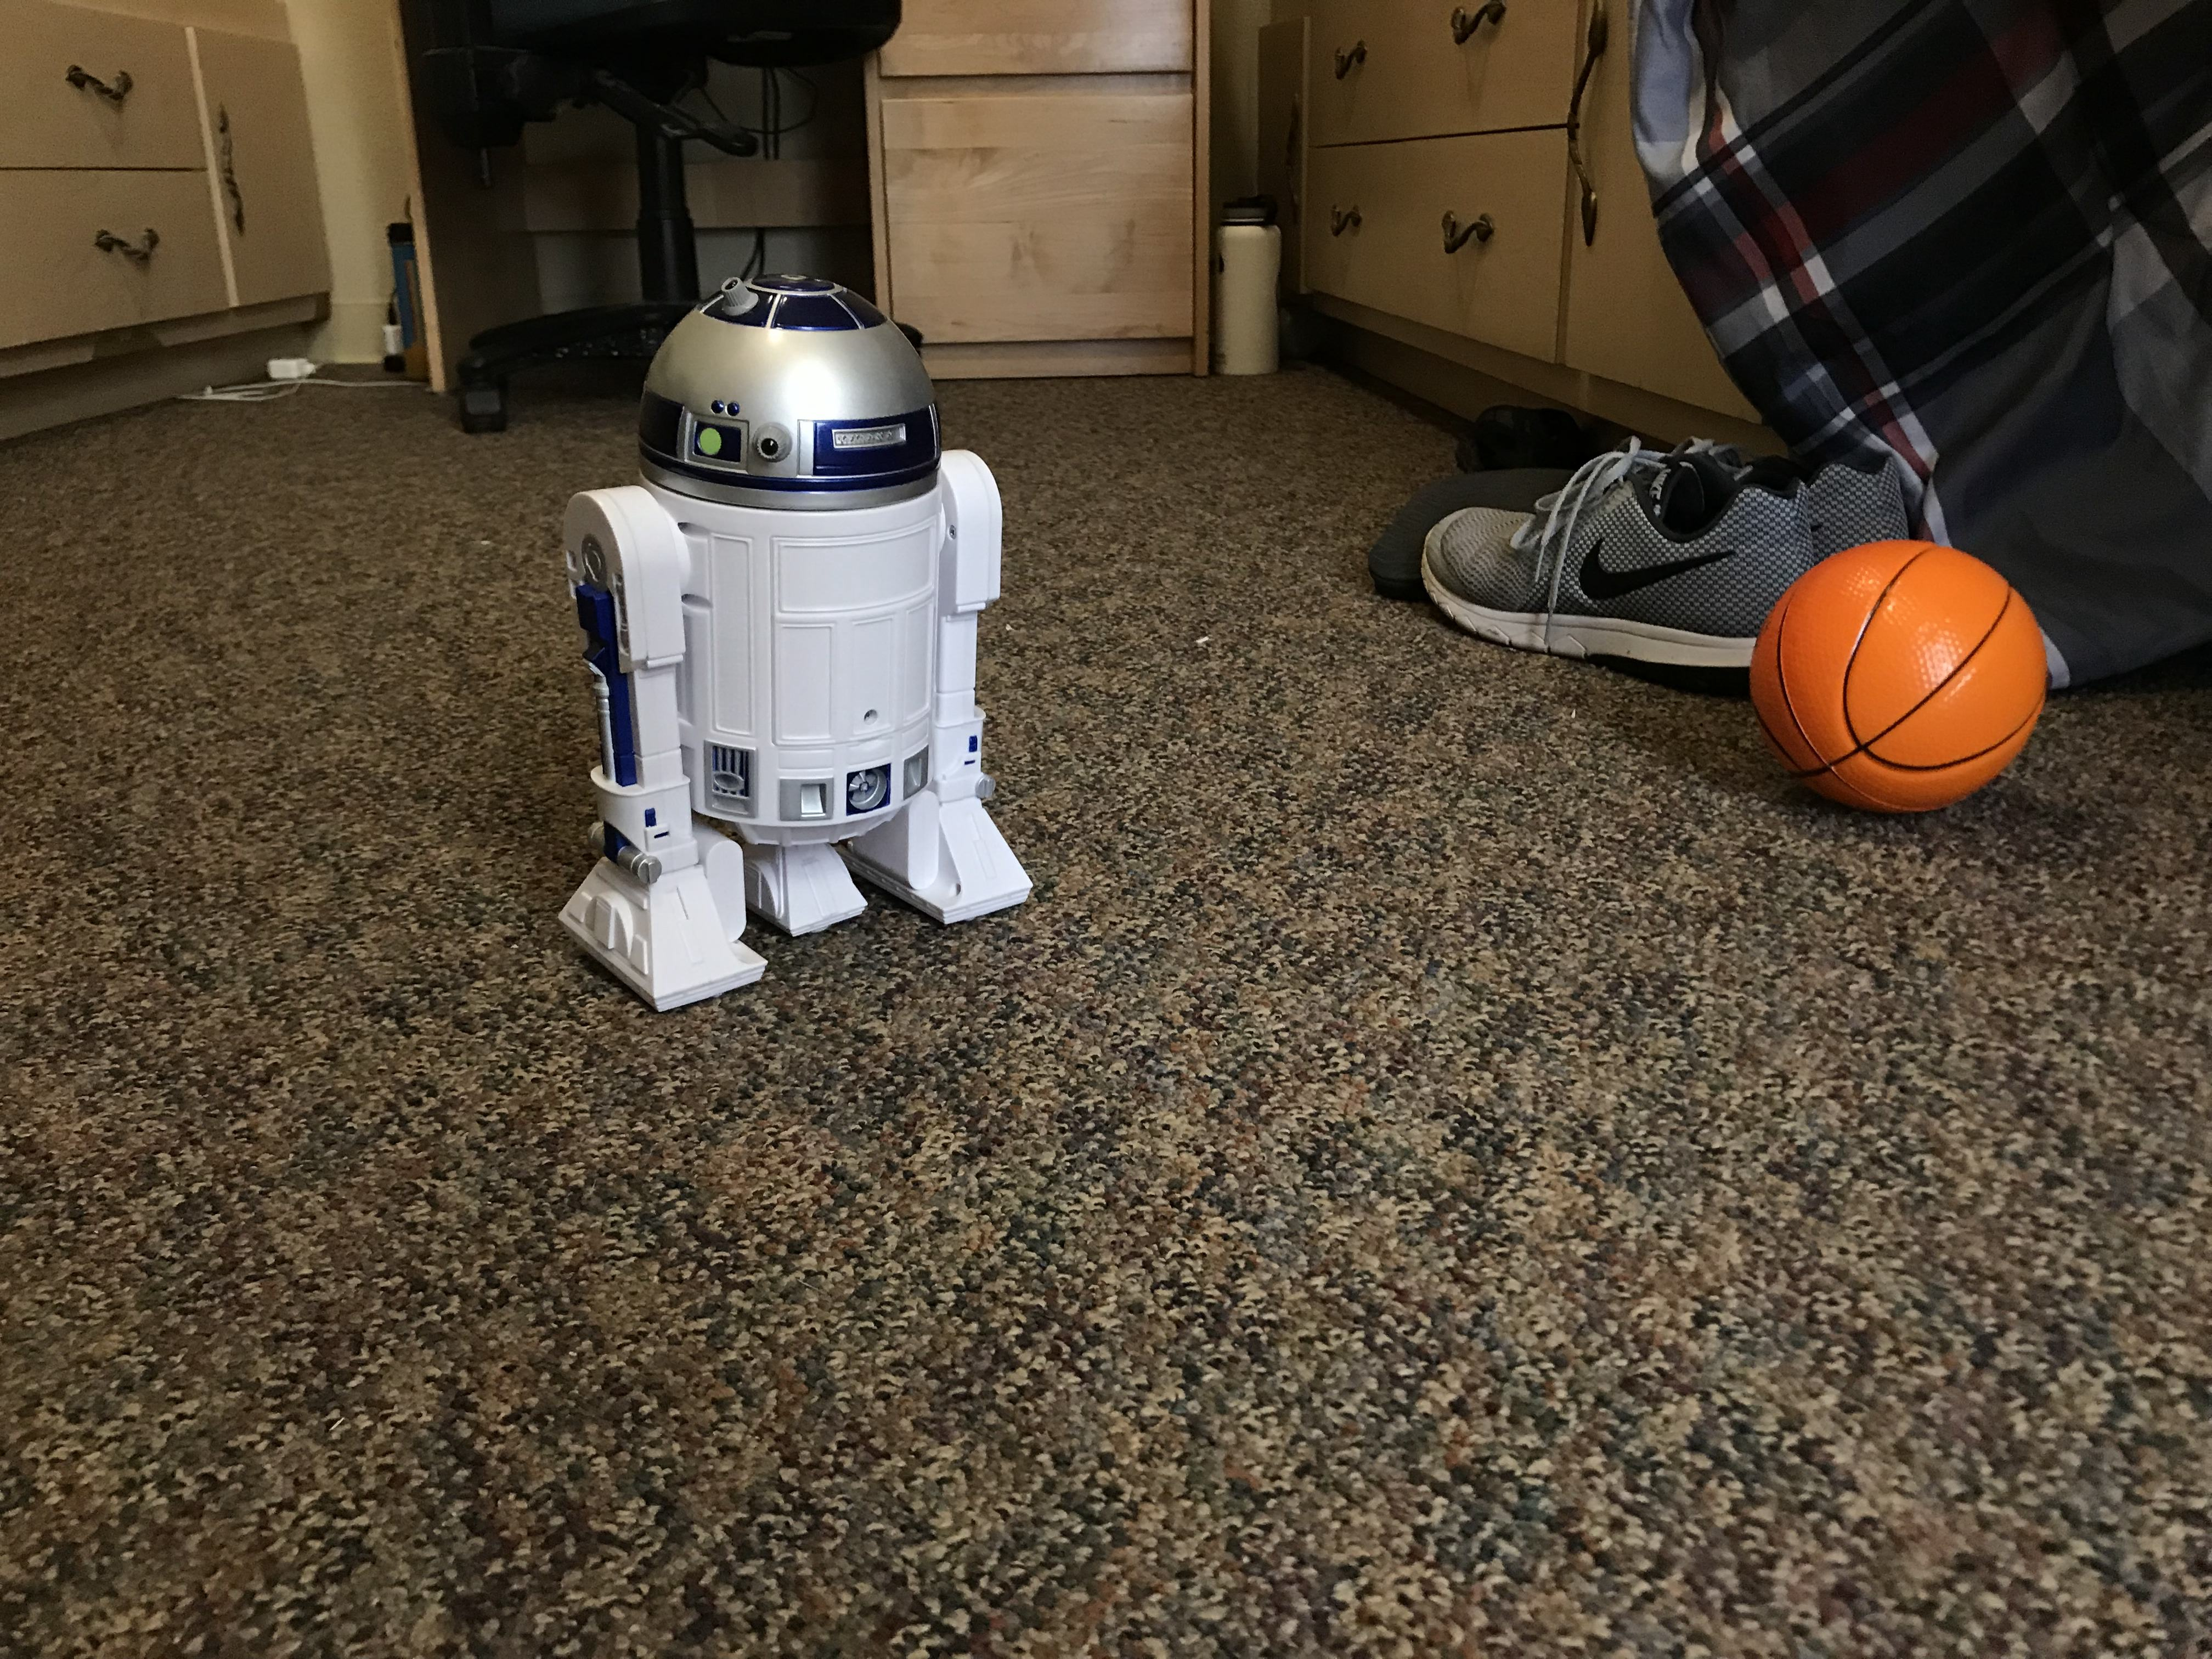r2d2: (561, 268, 1033, 1009)
